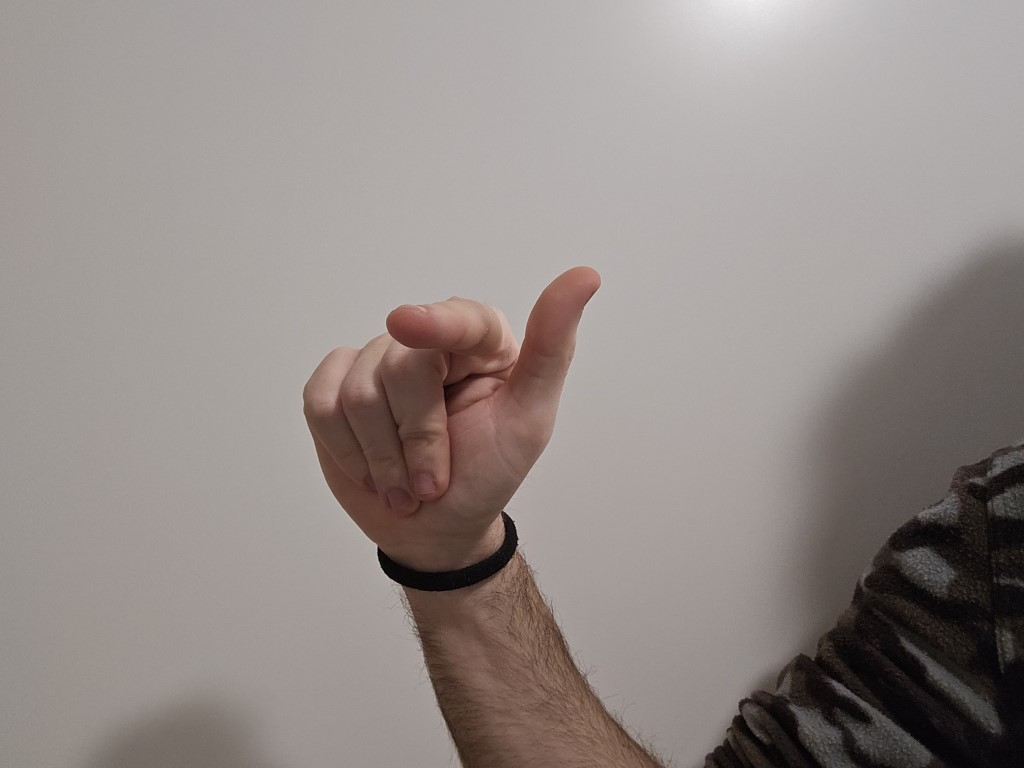t: (298, 245, 617, 549)
